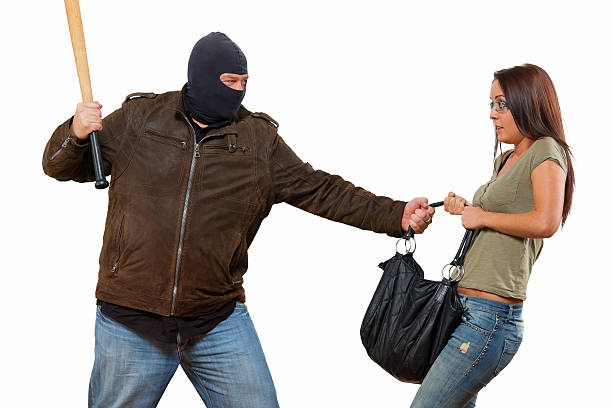bita: (56, 1, 113, 189)
